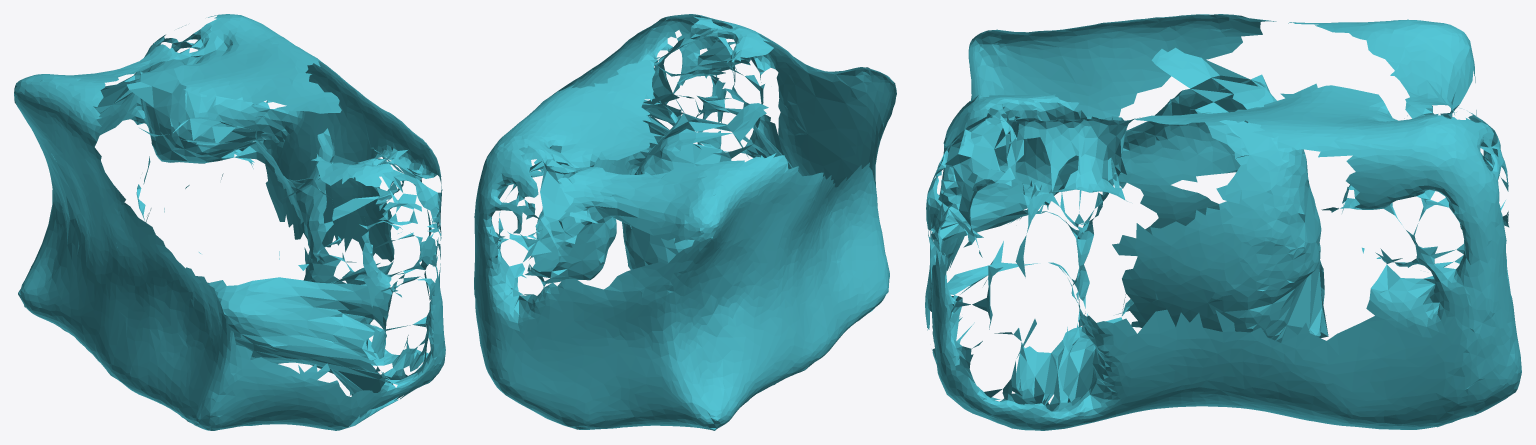
The picture shows the model from 3 angles, left to right: view 1: azimuth 30°, elevation 25°; view 2: azimuth 150°, elevation 25°; view 3: azimuth 270°, elevation 25°; orthographic projection. The views are drawn at different scales.
Parts seen in each view (by area): view 1: Renderer Node; view 2: Renderer Node; view 3: Renderer Node.
Boxes of the visible parts, <box> form: Renderer Node: <box>14,14,445,430</box>; Renderer Node: <box>474,14,896,430</box>; Renderer Node: <box>925,14,1521,430</box>.
Size of the model in its own units: 0.4233 by 0.4347 by 0.7236.
1 material, 1 textured.
